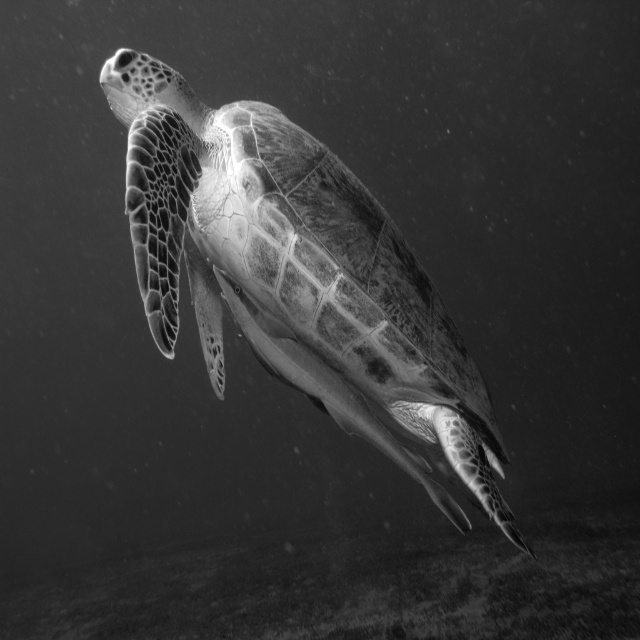Sea turtle: (96, 45, 538, 566)
